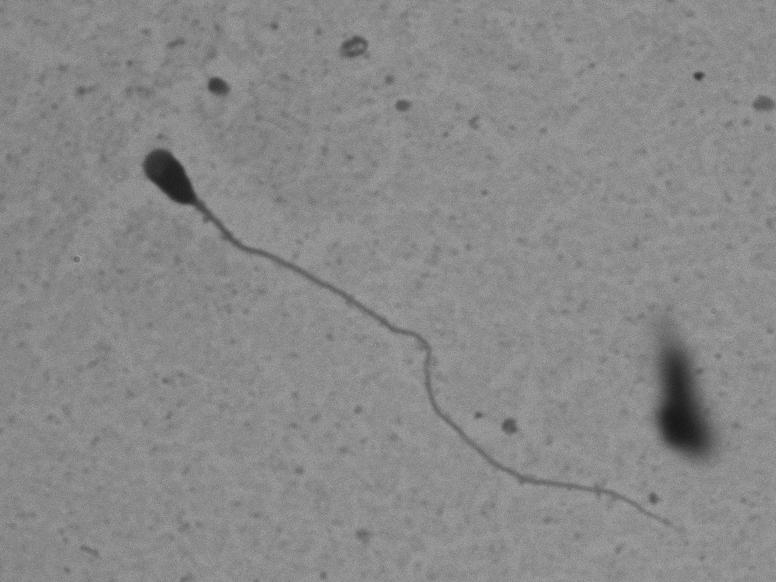Abnormal: (80, 98, 673, 546)
